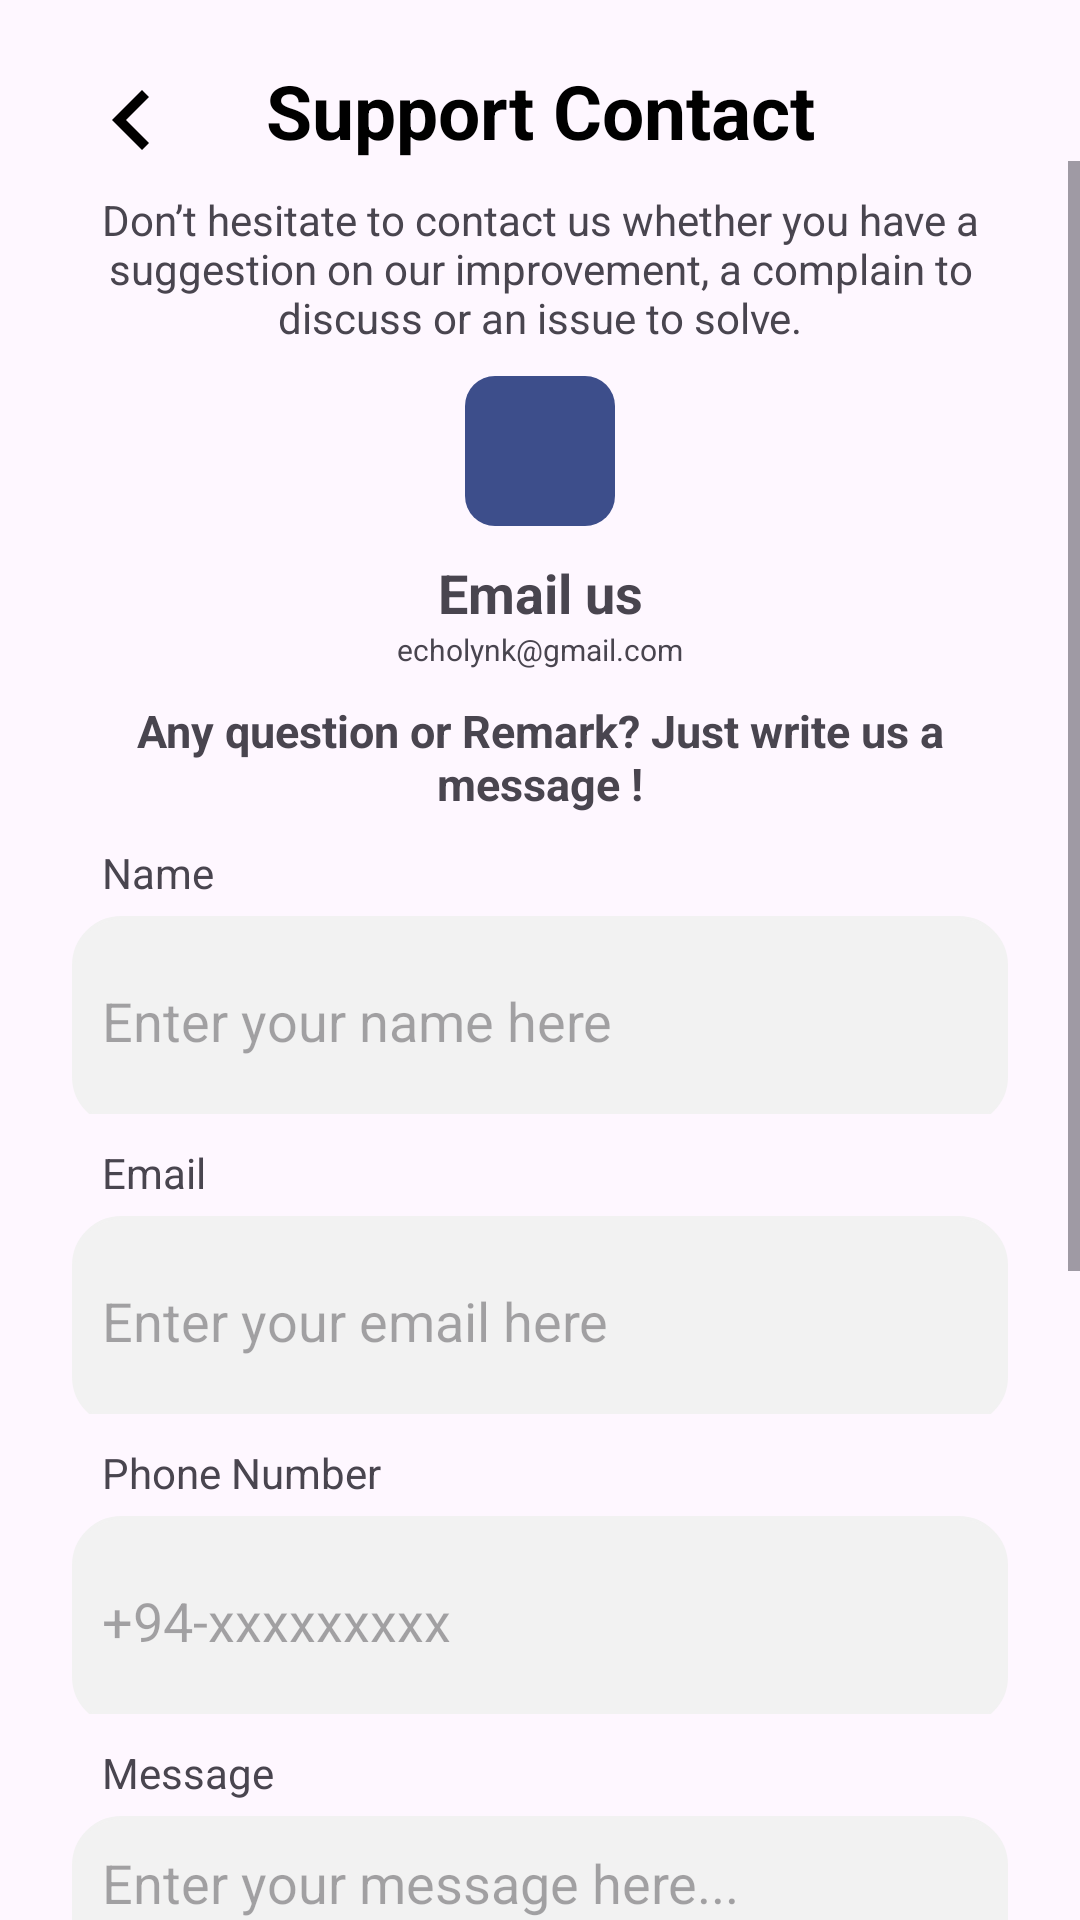

Named icons in this screenshot (1080 x 1920) and their bounding boxes, Rect(x1, y1, x2, y2):
arrow left: Rect(112, 90, 149, 150)
